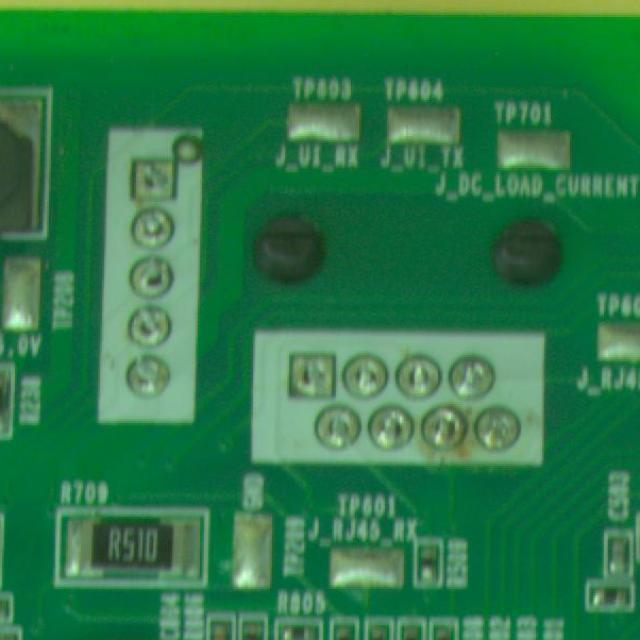Insufficient solder: (124, 212, 176, 262), (126, 355, 178, 404), (124, 303, 174, 350), (398, 346, 438, 404), (282, 346, 330, 394), (338, 348, 384, 398), (422, 404, 464, 454), (368, 405, 411, 453), (310, 406, 354, 452), (126, 259, 170, 304)
